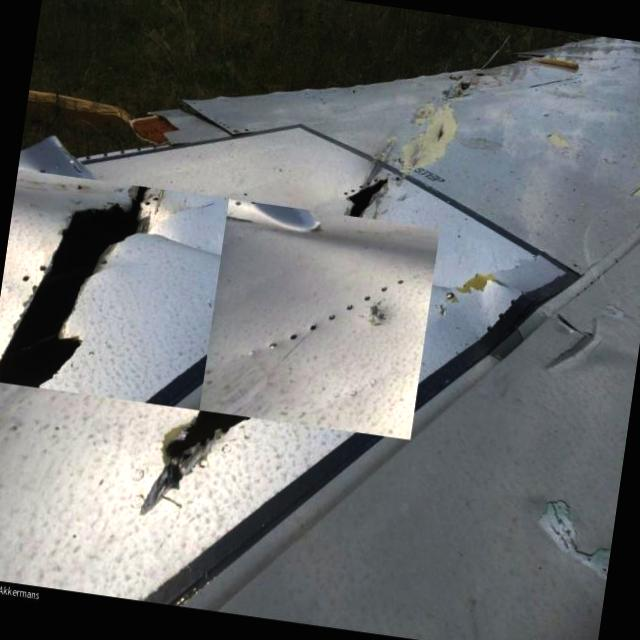crack: (0, 168, 159, 401), (148, 406, 254, 515), (524, 491, 618, 584), (541, 311, 606, 380), (342, 168, 390, 220), (433, 122, 447, 144)
dent: (359, 300, 396, 333)
